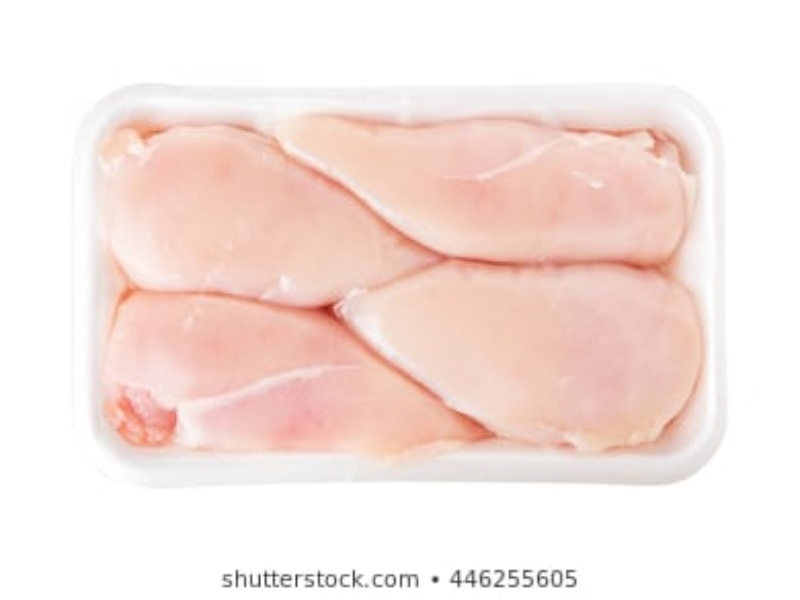plastic-tray: (66, 78, 728, 490)
